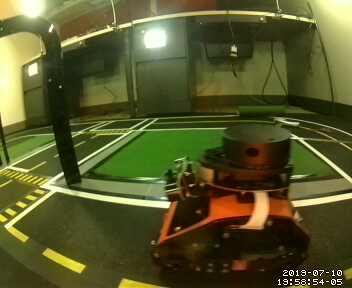pheeno: (152, 120, 313, 269)
